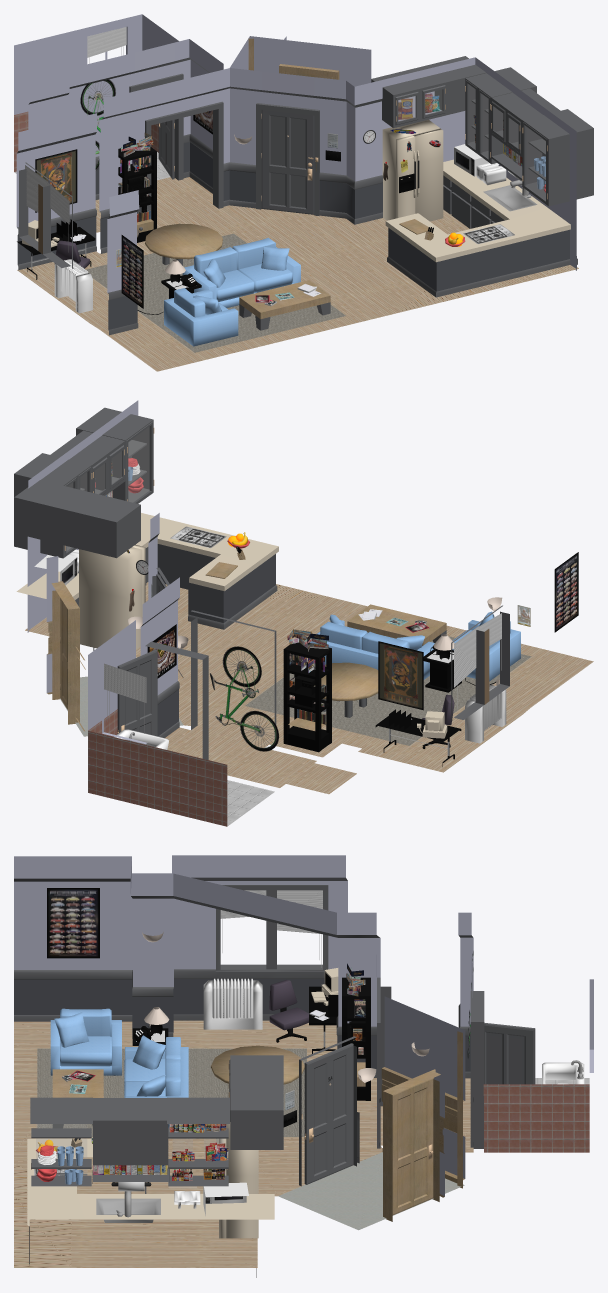
File: seinfeld_apartment.glb
3 renders of one model, top to bottom at view 1: azimuth 30°, elevation 25°; view 2: azimuth 150°, elevation 25°; view 3: azimuth 270°, elevation 25°, orthographic. The views are drawn at different scales.
Visible parts, largest first — view 1: apt, cabinets, door_front, couch, rug, fridge, chair, fridge_door, table, coffeetable, shelves, memph_poster (+12 smaller); view 2: apt, cabinets, fridge, rug, shelves, couch, memph_poster, door_bathroom, bike, table, coffeetable, porsche_poster (+12 smaller); view 3: apt, cabinets, door_front, door_kramer, chair, rug, porsche_poster, couch, door_bathroom, radiator, shelves, fridge (+8 smaller).
Boxes of the visible parts, x1,y1,x2,y2 form: apt: (14,14,578,371); cabinets: (371,56,593,206); door_front: (261,109,314,214); couch: (182,237,300,307); rug: (86,233,345,352); fridge: (382,119,439,220); chair: (164,288,238,346); fridge_door: (413,128,443,221); table: (145,223,222,274); coffeetable: (239,280,330,330); shelves: (118,145,156,242); memph_poster: (35,149,77,212); apt: (16,400,593,826); cabinets: (14,407,154,558); fridge: (79,544,145,649); rug: (245,636,531,745); shelves: (283,642,331,752); couch: (309,614,434,679); memph_poster: (378,641,423,710); door_bathroom: (117,649,157,736); bike: (210,646,279,751); table: (321,662,378,717); coffeetable: (347,604,446,645); porsche_poster: (554,552,578,632); apt: (14,855,593,1277); cabinets: (30,1055,283,1191); door_front: (304,1043,353,1184); door_kramer: (392,1078,433,1215); chair: (50,1008,121,1075); rug: (37,1048,306,1136); porsche_poster: (47,888,99,958); couch: (124,1035,188,1128); door_bathroom: (484,1022,535,1084); radiator: (203,978,262,1029); shelves: (342,977,370,1100); fridge: (226,1122,258,1238).
Size of the model in its own units: 15.63 by 5.88 by 14.47.
75 materials, 62 textured.
